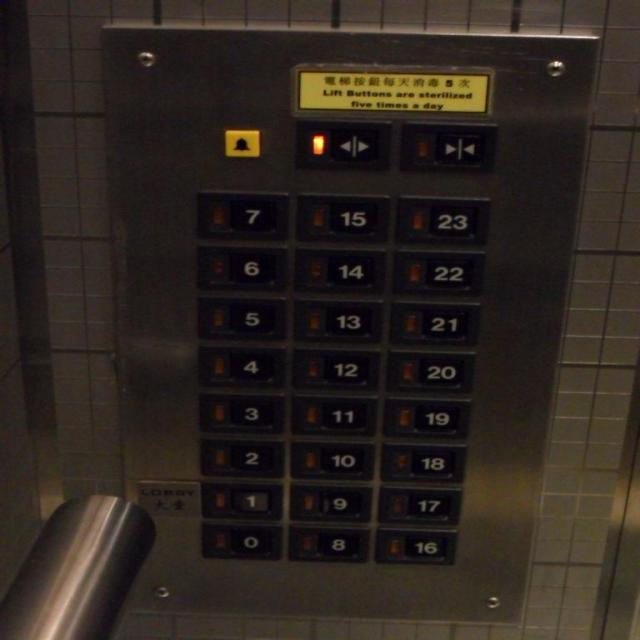0: (201, 523, 282, 561)
1: (199, 481, 284, 521)
10: (289, 438, 373, 480)
11: (290, 394, 377, 437)
12: (291, 346, 380, 390)
13: (291, 296, 384, 344)
14: (293, 245, 386, 294)
15: (295, 190, 388, 243)
16: (374, 526, 457, 565)
17: (376, 485, 462, 525)
18: (380, 441, 465, 483)
19: (382, 396, 472, 438)
2: (199, 436, 287, 479)
20: (384, 348, 476, 394)
21: (388, 300, 480, 346)
22: (391, 248, 486, 298)
23: (394, 193, 489, 246)
3: (197, 390, 286, 436)
4: (196, 344, 286, 389)
5: (196, 296, 287, 340)
6: (196, 246, 286, 292)
7: (198, 189, 288, 239)
8: (287, 523, 369, 562)
9: (286, 481, 372, 523)
alarm: (222, 129, 261, 157)
close: (402, 120, 495, 173)
open: (291, 117, 392, 172)
